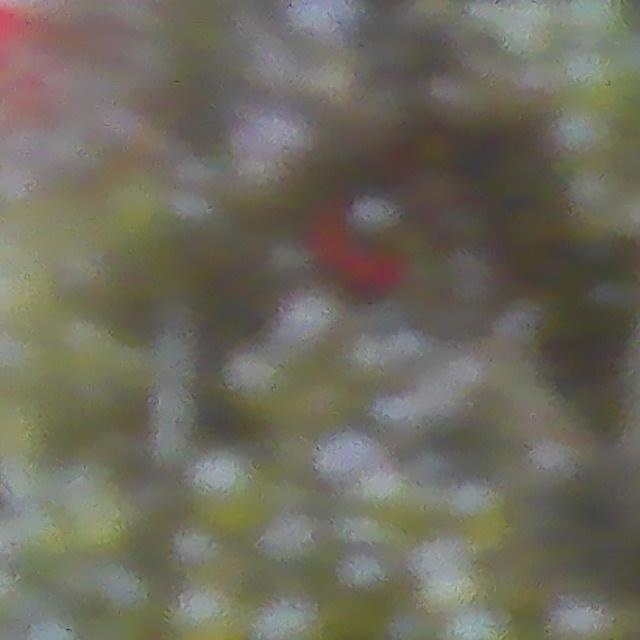SeaGrape: (171, 580, 248, 640), (567, 0, 625, 42)
